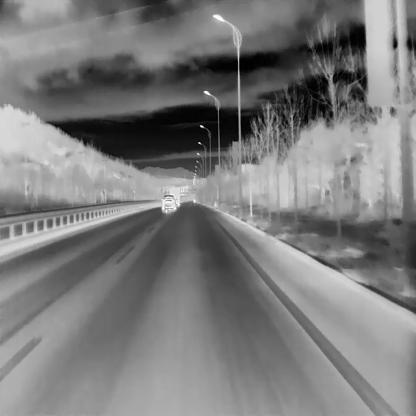car: (161, 194, 176, 211), (171, 187, 180, 205)
